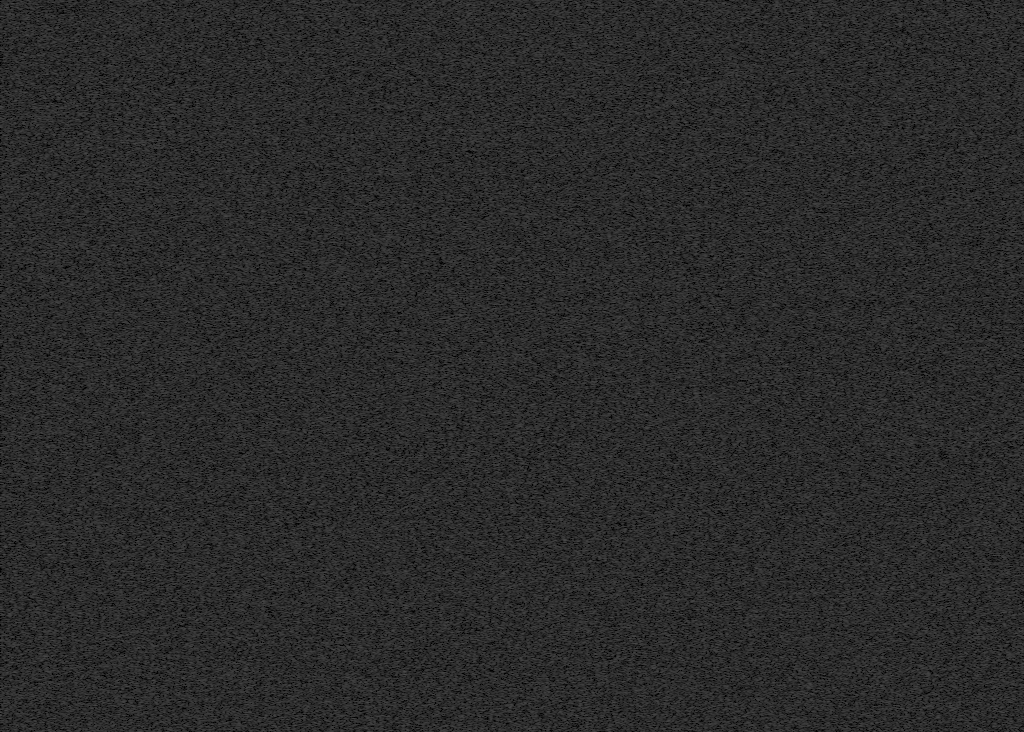wv_am: (55, 0, 60, 732), (158, 0, 163, 716), (101, 0, 106, 587), (101, 590, 106, 732), (158, 727, 163, 732)
wv_lsb: (51, 4, 56, 639), (51, 695, 56, 732), (52, 670, 55, 678), (52, 655, 55, 662), (52, 687, 55, 693), (52, 679, 55, 685), (52, 640, 55, 646), (52, 649, 55, 652)
wv_usb: (26, 2, 31, 252), (26, 454, 31, 669), (62, 49, 67, 204), (22, 276, 27, 412), (62, 240, 68, 328), (62, 585, 67, 686), (62, 493, 67, 584), (62, 408, 67, 492), (26, 390, 31, 453), (22, 506, 26, 571), (22, 431, 27, 481), (22, 201, 26, 259), (62, 3, 67, 48), (26, 253, 31, 296), (22, 32, 26, 72), (26, 685, 31, 716), (22, 689, 26, 721), (22, 95, 26, 125), (22, 576, 26, 602), (26, 367, 31, 387), (26, 311, 31, 331), (62, 707, 67, 726), (22, 482, 26, 505), (62, 205, 67, 222), (22, 73, 26, 94), (22, 660, 26, 679), (22, 137, 26, 156), (62, 364, 67, 379), (22, 157, 26, 175), (26, 717, 31, 731), (26, 670, 31, 684), (62, 380, 67, 394), (62, 329, 67, 343), (26, 297, 31, 310), (62, 395, 67, 407), (22, 260, 26, 275), (27, 347, 30, 366), (22, 603, 26, 617), (22, 176, 27, 187), (62, 353, 67, 363), (22, 188, 26, 200), (22, 638, 26, 649), (22, 6, 26, 17), (27, 332, 30, 346), (62, 344, 67, 352), (22, 722, 26, 732), (22, 618, 26, 628), (22, 126, 26, 136), (62, 229, 67, 236), (22, 680, 26, 688), (22, 629, 26, 637), (22, 416, 26, 424), (22, 20, 26, 28), (62, 727, 67, 732), (62, 223, 67, 228), (63, 701, 67, 706), (22, 655, 26, 659), (62, 697, 67, 700), (62, 687, 67, 690), (22, 650, 26, 653), (22, 572, 26, 575)
wv_wbfm: (30, 0, 49, 732)
